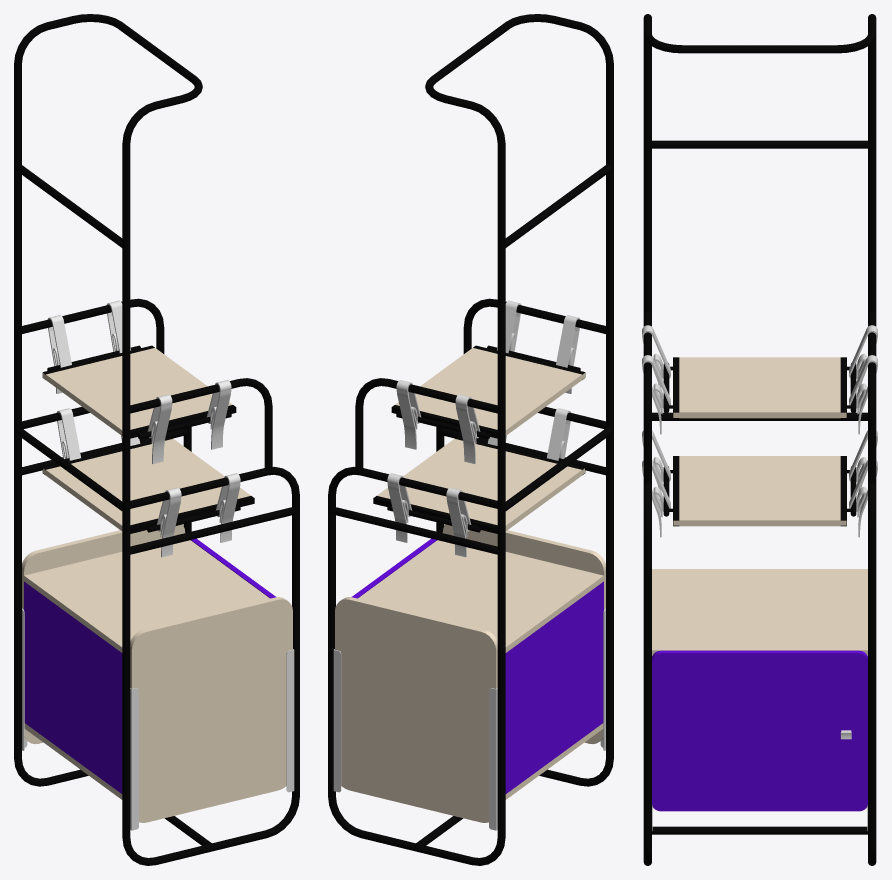
3 views of the same model, side by side, from view 1: azimuth 30°, elevation 25°; view 2: azimuth 150°, elevation 25°; view 3: azimuth 270°, elevation 25° (orthographic). The views are drawn at different scales.
Visible parts, largest first — view 1: Cuerpo1:4, Cuerpo1, Cuerpo14, Cuerpo1:3, Cuerpo1:2, Cuerpo1:1, Cuerpo18, Cuerpo3, Cuerpo2, Cuerpo54, Cuerpo52, Cuerpo24 (+7 smaller); view 2: Cuerpo18, Cuerpo1, Cuerpo14, Cuerpo1:3, Cuerpo1:2, Cuerpo1:1, Cuerpo1:4, Cuerpo5, Cuerpo4, Cuerpo53, Cuerpo51, Cuerpo30 (+7 smaller); view 3: Cuerpo20, Cuerpo1, Cuerpo1:3, Cuerpo1:2, Cuerpo1:1, Cuerpo24, Cuerpo25, Cuerpo53, Cuerpo54, Cuerpo27, Cuerpo28, Cuerpo51 (+2 smaller).
Part boxes in pixels (left/top/right/bottom): Cuerpo1:4: left=130, top=597, right=292, bottom=822; Cuerpo1: left=14, top=14, right=299, bottom=865; Cuerpo14: left=24, top=581, right=122, bottom=793; Cuerpo1:3: left=24, top=540, right=269, bottom=652; Cuerpo1:2: left=43, top=438, right=250, bottom=530; Cuerpo1:1: left=43, top=348, right=232, bottom=435; Cuerpo18: left=22, top=524, right=185, bottom=743; Cuerpo3: left=130, top=688, right=138, bottom=830; Cuerpo2: left=286, top=649, right=294, bottom=792; Cuerpo54: left=207, top=380, right=231, bottom=449; Cuerpo52: left=147, top=394, right=172, bottom=463; Cuerpo24: left=130, top=496, right=254, bottom=533; Cuerpo18: left=335, top=597, right=497, bottom=822; Cuerpo1: left=328, top=14, right=613, bottom=865; Cuerpo14: left=505, top=581, right=603, bottom=793; Cuerpo1:3: left=358, top=540, right=603, bottom=652; Cuerpo1:2: left=377, top=438, right=584, bottom=530; Cuerpo1:1: left=395, top=348, right=584, bottom=435; Cuerpo1:4: left=442, top=524, right=605, bottom=743; Cuerpo5: left=489, top=688, right=497, bottom=830; Cuerpo4: left=333, top=649, right=341, bottom=792; Cuerpo53: left=396, top=380, right=420, bottom=449; Cuerpo51: left=455, top=394, right=480, bottom=463; Cuerpo30: left=446, top=487, right=471, bottom=557; Cuerpo20: left=652, top=650, right=867, bottom=811; Cuerpo1: left=643, top=14, right=876, bottom=865; Cuerpo1:3: left=652, top=569, right=867, bottom=655; Cuerpo1:2: left=673, top=456, right=846, bottom=526; Cuerpo1:1: left=673, top=357, right=846, bottom=418; Cuerpo24: left=663, top=456, right=679, bottom=526; Cuerpo25: left=663, top=357, right=679, bottom=418; Cuerpo53: left=849, top=355, right=877, bottom=434; Cuerpo54: left=642, top=355, right=670, bottom=434; Cuerpo27: left=642, top=460, right=670, bottom=537; Cuerpo28: left=849, top=460, right=877, bottom=537; Cuerpo51: left=849, top=325, right=877, bottom=398.
Bounding box in the file's own units: 0.05 × 0.1999 × 0.0542.
